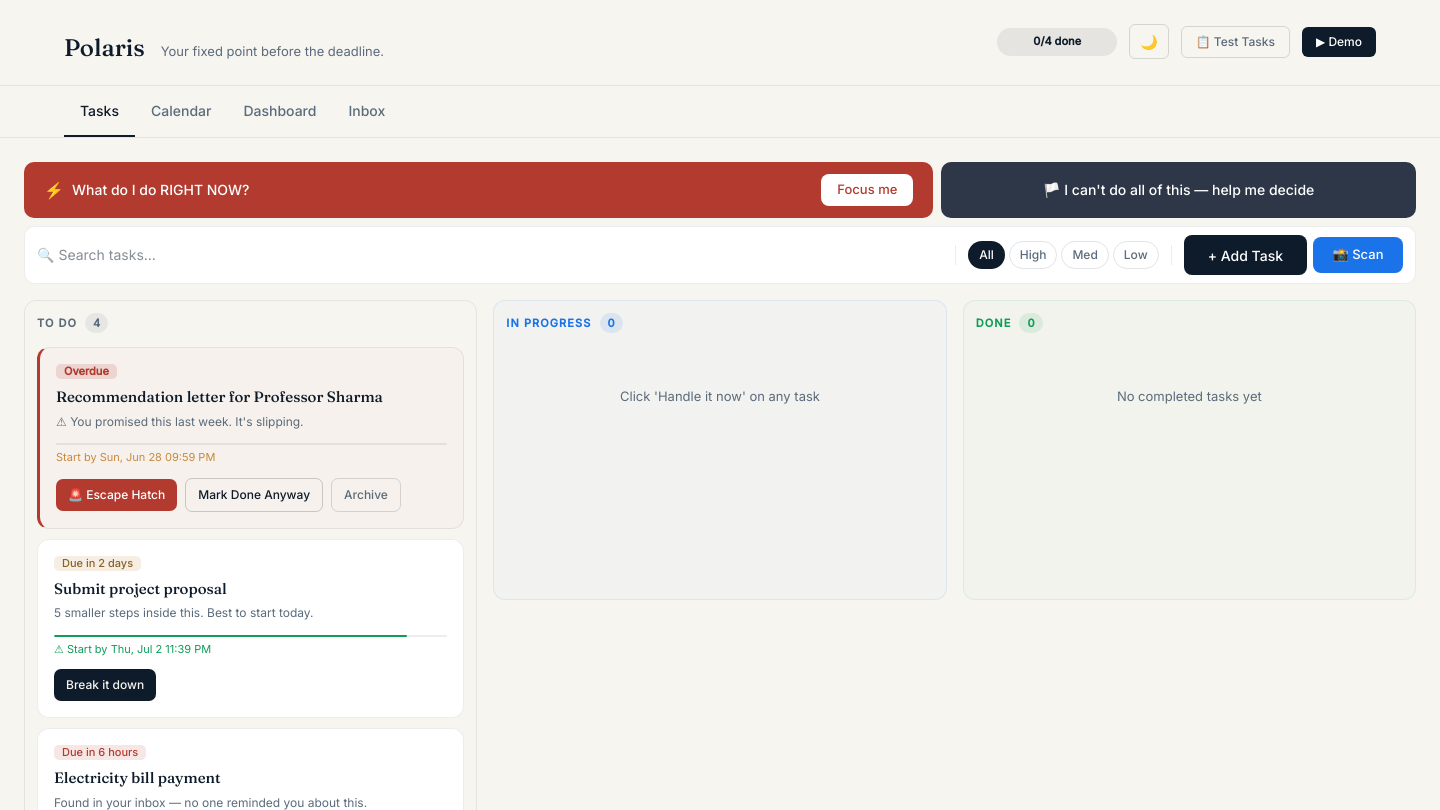
Test case: Module 12: DOM Structure & Mobile › Clicking "📸 Scan" opens modal with correct structure
Click the button "📸 Scan": x=1358, y=254 [1313,236,1403,272]
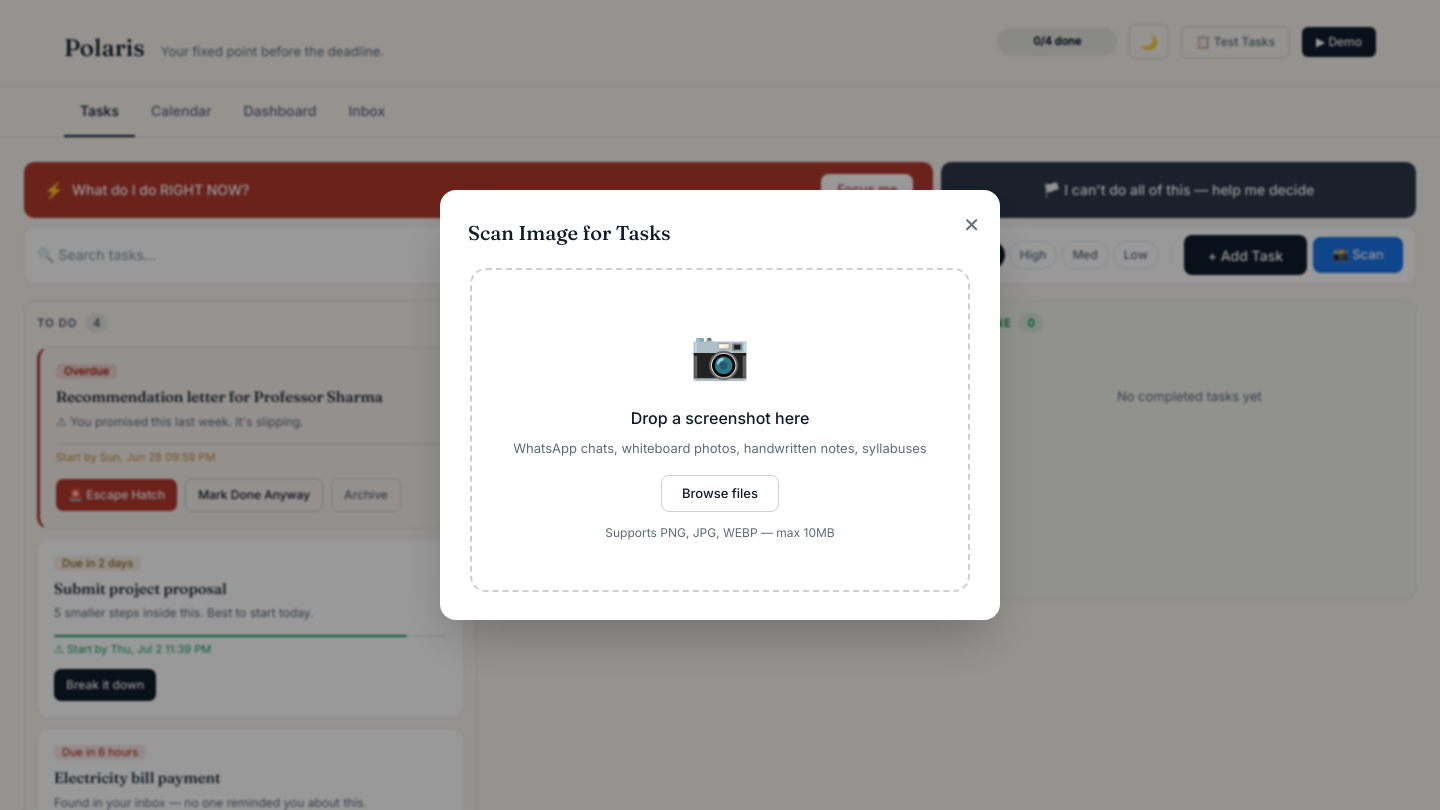
Check: the element with id "image-upload-zone" is shown, box [470,268,970,592]
Check: the heading "Scan Image for Tasks" is shown, box [468,220,671,245]
